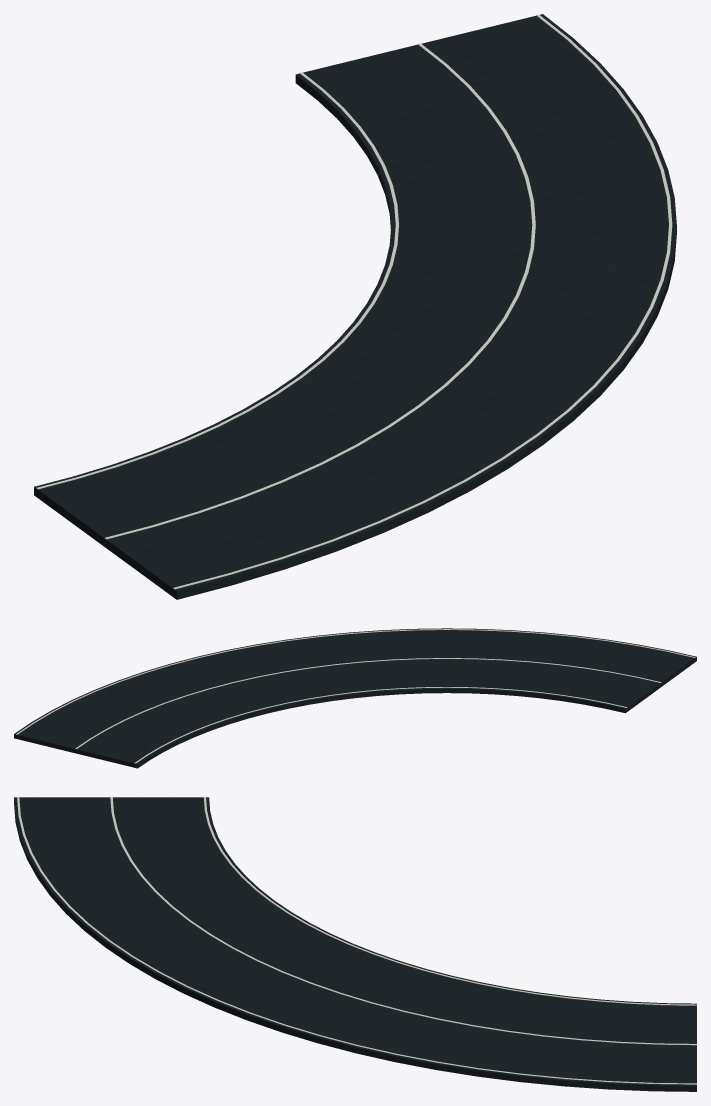
Rendered from Transit_Road_2L_Curve90_R18.glb.
The picture shows the model from 3 angles, top to bottom: view 1: azimuth 30°, elevation 25°; view 2: azimuth 150°, elevation 25°; view 3: azimuth 270°, elevation 25°; orthographic projection. The views are drawn at different scales.
Visible parts, largest first — view 1: Transit_Road_2L_Curve90_R18_Surface, Transit_Road_2L_Curve90_R18_MarkEdge-1, Transit_Road_2L_Curve90_R18_MarkLane1, Transit_Road_2L_Curve90_R18_MarkEdge+1; view 2: Transit_Road_2L_Curve90_R18_Surface, Transit_Road_2L_Curve90_R18_MarkEdge-1, Transit_Road_2L_Curve90_R18_MarkLane1, Transit_Road_2L_Curve90_R18_MarkEdge+1; view 3: Transit_Road_2L_Curve90_R18_Surface, Transit_Road_2L_Curve90_R18_MarkEdge-1, Transit_Road_2L_Curve90_R18_MarkLane1, Transit_Road_2L_Curve90_R18_MarkEdge+1.
Boxes of the visible parts, box(x1,y1,x2,y2) form: Transit_Road_2L_Curve90_R18_Surface: box(34, 14, 676, 599); Transit_Road_2L_Curve90_R18_MarkEdge-1: box(173, 14, 672, 589); Transit_Road_2L_Curve90_R18_MarkLane1: box(105, 43, 535, 539); Transit_Road_2L_Curve90_R18_MarkEdge+1: box(36, 72, 398, 489); Transit_Road_2L_Curve90_R18_Surface: box(14, 628, 696, 768); Transit_Road_2L_Curve90_R18_MarkEdge-1: box(16, 629, 695, 734); Transit_Road_2L_Curve90_R18_MarkLane1: box(75, 658, 661, 749); Transit_Road_2L_Curve90_R18_MarkEdge+1: box(134, 687, 627, 763); Transit_Road_2L_Curve90_R18_Surface: box(14, 797, 696, 1091); Transit_Road_2L_Curve90_R18_MarkEdge-1: box(17, 797, 696, 1084); Transit_Road_2L_Curve90_R18_MarkLane1: box(110, 797, 696, 1045); Transit_Road_2L_Curve90_R18_MarkEdge+1: box(203, 797, 696, 1005).
Bounding box in the file's own units: 21 × 0.212 × 21.
Materials: 2 (1 with a texture image).
